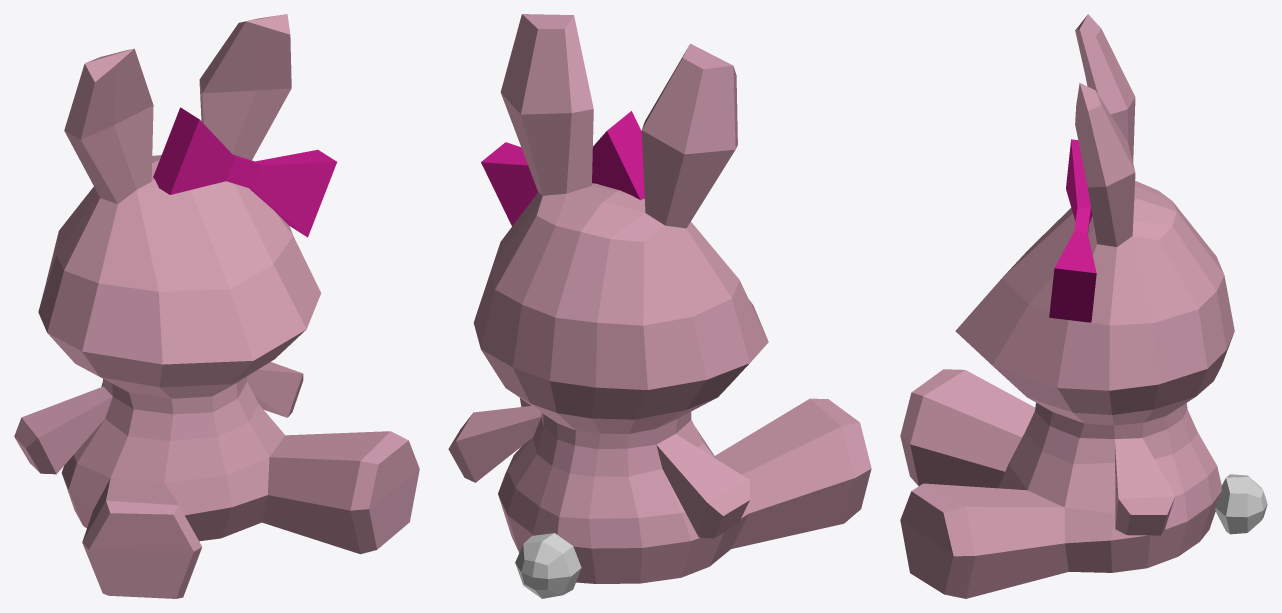
File: bunny.fbx
3 views of the same model, side by side, from view 1: azimuth 30°, elevation 25°; view 2: azimuth 150°, elevation 25°; view 3: azimuth 270°, elevation 25° (orthographic). The views are drawn at different scales.
Visible parts, largest first — view 1: Cube.001, Cube; view 2: Cube.001, Cube, Cube.002; view 3: Cube.001, Cube, Cube.002.
Part boxes in pixels (x1=…): Cube.001: x1=14, y1=14, x2=419, y2=598; Cube: x1=153, y1=107, x2=336, y2=237; Cube.001: x1=448, y1=14, x2=871, y2=583; Cube: x1=481, y1=111, x2=644, y2=226; Cube.002: x1=515, y1=533, x2=581, y2=598; Cube.001: x1=900, y1=14, x2=1234, y2=598; Cube: x1=1049, y1=139, x2=1096, y2=322; Cube.002: x1=1215, y1=474, x2=1267, y2=534.
Bounding box in the file's own units: 250 × 349 × 244.
